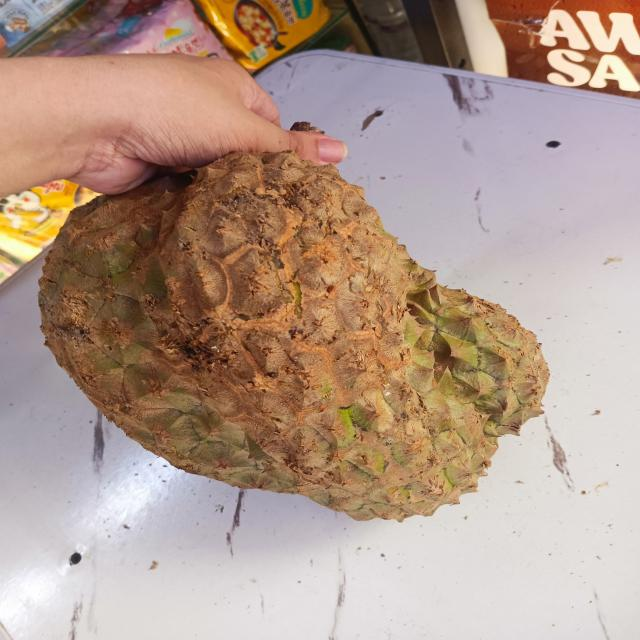mature: (40, 152, 548, 521)
